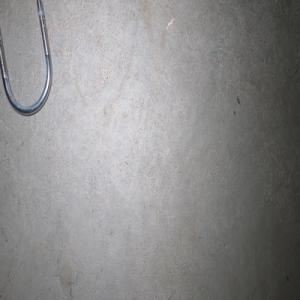ClampPart: (0, 0, 53, 116)
